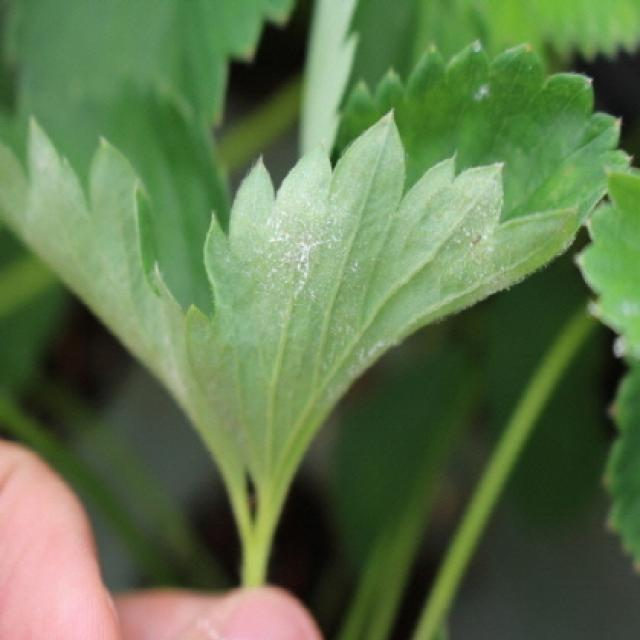powdery_mildew_leaf: (182, 39, 634, 529)
